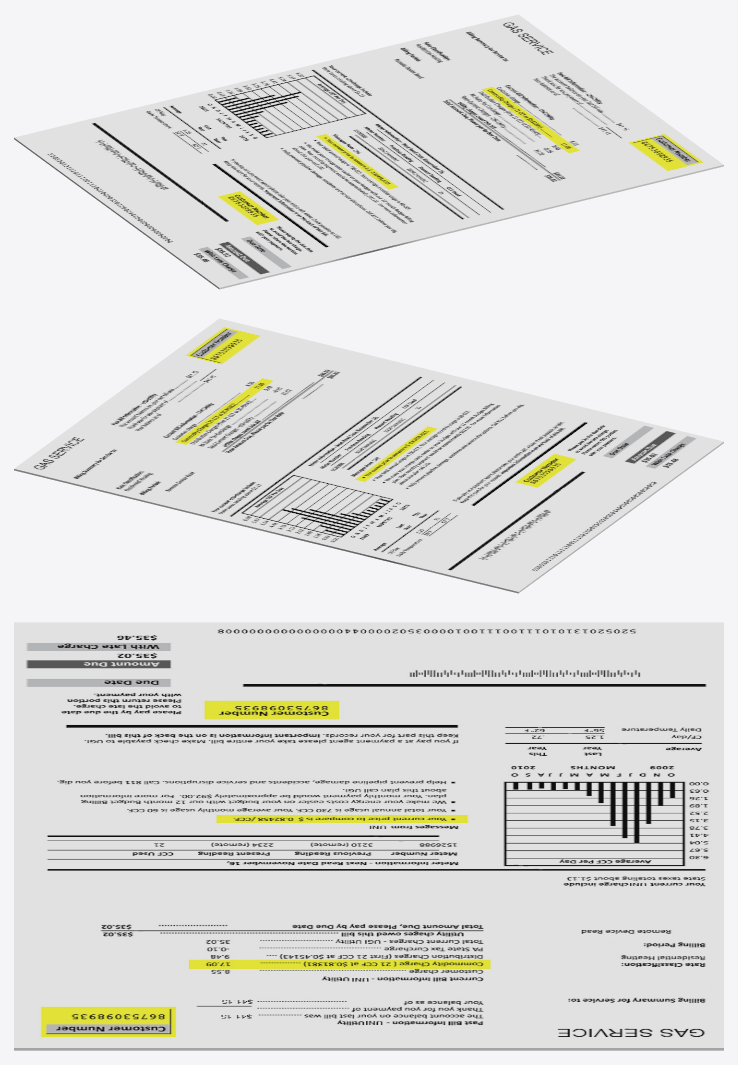
File: o_GasBill.fbx
The picture shows the model from 3 angles, top to bottom: view 1: azimuth 30°, elevation 25°; view 2: azimuth 150°, elevation 25°; view 3: azimuth 270°, elevation 25°; orthographic projection. The views are drawn at different scales.
Parts seen in each view (by area): view 1: o_GasBill; view 2: o_GasBill; view 3: o_GasBill.
Boxes of the visible parts, bbox=[...] form: o_GasBill: bbox=[14, 14, 723, 289]; o_GasBill: bbox=[14, 318, 723, 593]; o_GasBill: bbox=[14, 622, 723, 1050].
Bounding box in the file's own units: 0.3167 × 0.000951 × 0.2234.
